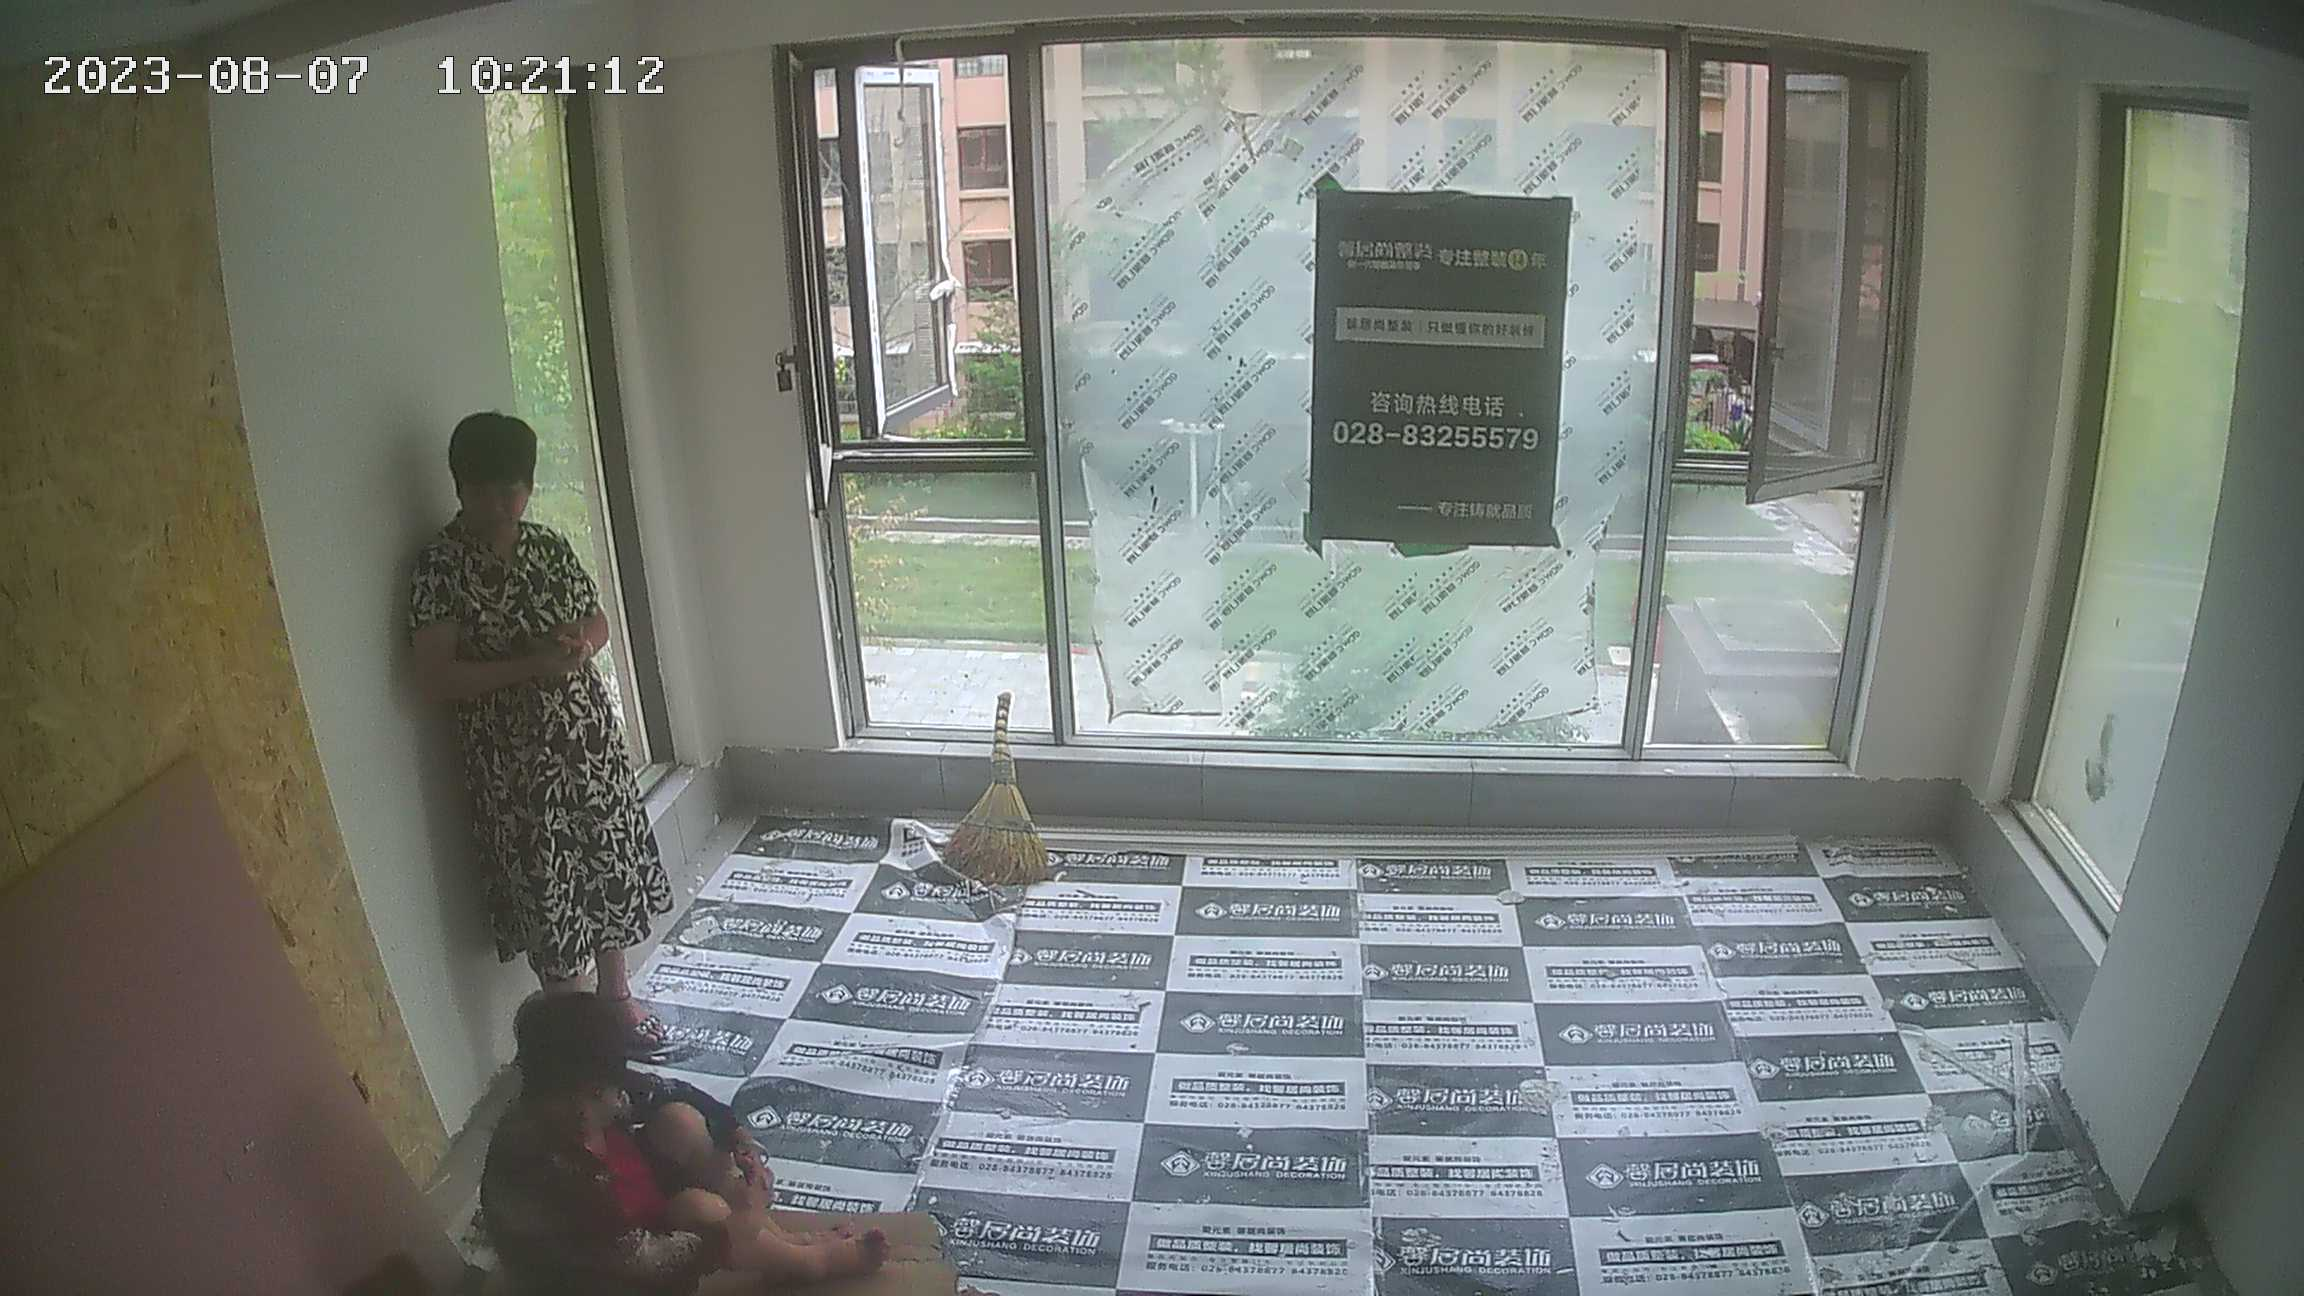people: (395, 403, 687, 1051), (465, 978, 934, 1296)
window: (795, 62, 1893, 758), (2041, 75, 2234, 936), (481, 65, 674, 780)
